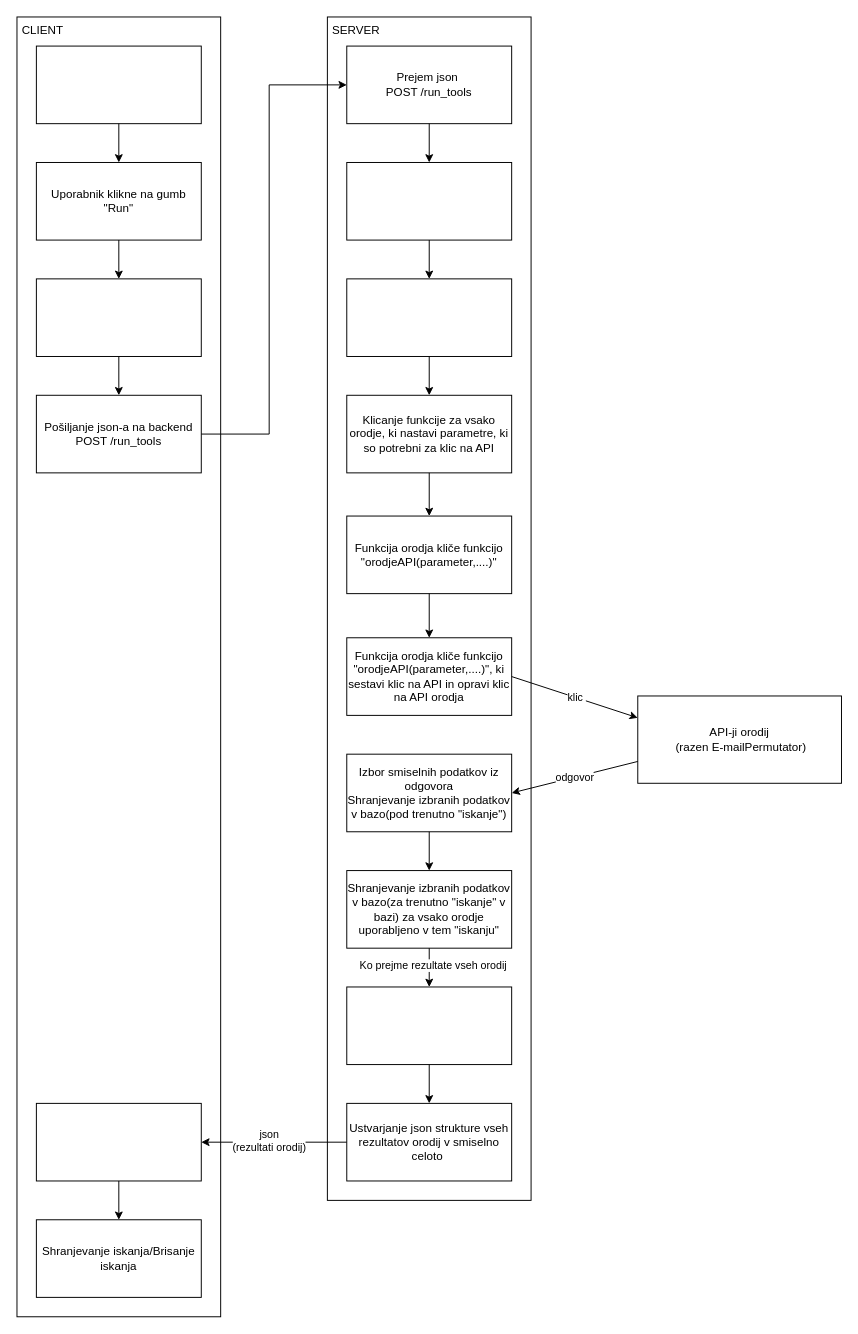
The diagram is 858 pixels wide and 1334 high, and some of its shapes have lost their labels. The shapes that lost their labels are listed below. From the top down, each one's centre as x and y in pixels, then its label:
point 118,84: Uporabnik izbere vsa orodja in parametre
point 429,201: Procesiranje json
point 118,317: Generiranje json strukture z podatki o izbranih orodjih in njihovih parametrih
point 429,317: Ustvarjanje novega "iskanja" v bazi
point 429,1025: Pridobivanje vseh rezultatov orodij za to "iskanje" iz baze
point 118,1141: Prikaz rezultatov celotnega iskanja
